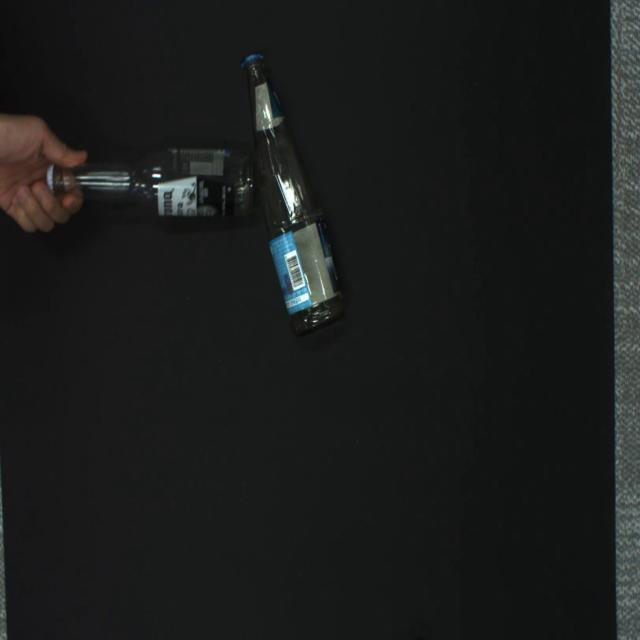beer-bottle: (240, 53, 348, 337), (46, 148, 254, 217)
